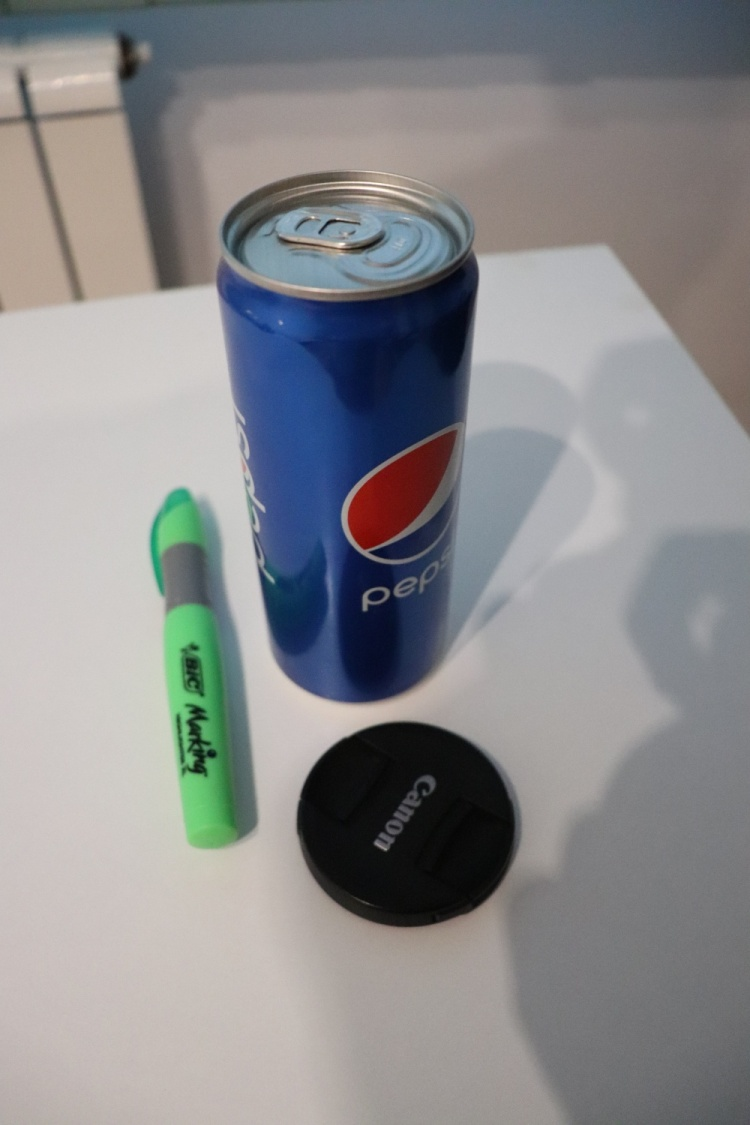pepsi: (210, 165, 491, 709)
